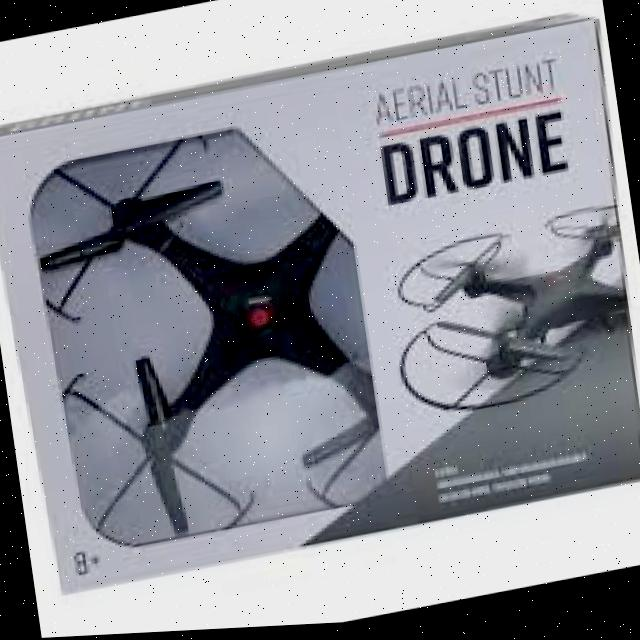drone: (16, 85, 456, 567), (379, 191, 640, 435)
